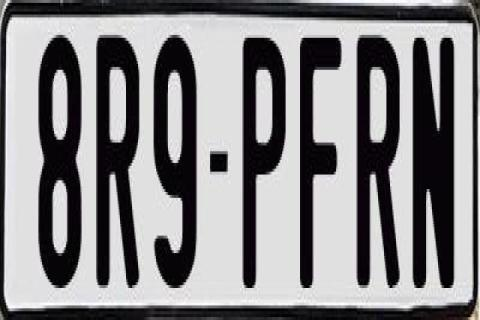0: (154, 29, 202, 288), (39, 35, 86, 288)
F: (298, 38, 338, 288)
N: (409, 35, 458, 291)
P: (240, 32, 290, 294)
R: (92, 29, 140, 282), (356, 32, 402, 294)
